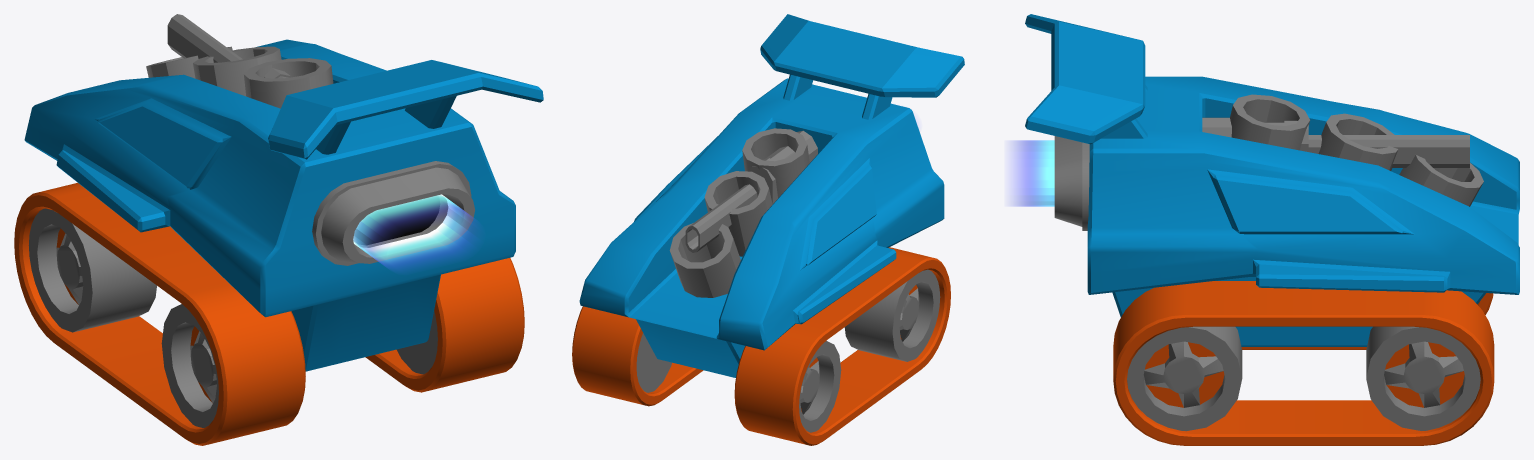
The model's file is tank-03.glb.
3 renders of one model, left to right at view 1: azimuth 30°, elevation 25°; view 2: azimuth 150°, elevation 25°; view 3: azimuth 270°, elevation 25°, orthographic. The views are drawn at different scales.
Parts seen in each view (by area): view 1: Body, Tracks-R, Cylinder, Tracks-L, Wheel-FL, boost-fire, Weapon-Rockets, Wheel-BL, Weapon-Minigun, Wheel-FR; view 2: Body, Tracks-R, Weapon-Rockets, Tracks-L, Wheel-BL, Weapon-Minigun, Wheel-FL, Wheel-BR; view 3: Body, Tracks-L, Wheel-FR, Wheel-BR, Weapon-Rockets, Weapon-Minigun, boost-fire, Cylinder, Tracks-R.
Boxes of the visible parts, x1,y1,x2,y2 form: Body: (24,39,543,371); Tracks-R: (14,182,305,445); Cylinder: (312,161,474,265); Tracks-L: (365,258,524,392); Wheel-FL: (28,208,156,332); boost-fire: (353,194,479,270); Weapon-Rockets: (146,46,333,108); Wheel-BL: (161,304,218,427); Weapon-Minigun: (167,14,291,78); Wheel-FR: (396,310,437,374); Body: (579,14,964,377); Tracks-R: (734,247,950,445); Weapon-Rockets: (669,128,809,297); Tracks-L: (572,306,703,406); Wheel-BL: (844,269,940,361); Weapon-Minigun: (685,130,817,252); Wheel-FL: (799,341,841,432); Wheel-BR: (636,333,671,392); Body: (1025,14,1519,346); Tracks-L: (1113,281,1494,445); Wheel-FR: (1127,326,1242,431); Wheel-BR: (1366,326,1480,430); Weapon-Rockets: (1230,94,1483,206); Weapon-Minigun: (1202,117,1469,167); boost-fire: (1009,140,1054,206); Cylinder: (1054,136,1089,230); Tracks-R: (1241,293,1493,349).
Bounding box in the file's own units: 2.74 × 3.05 × 4.45.
6 materials, 1 textured.
